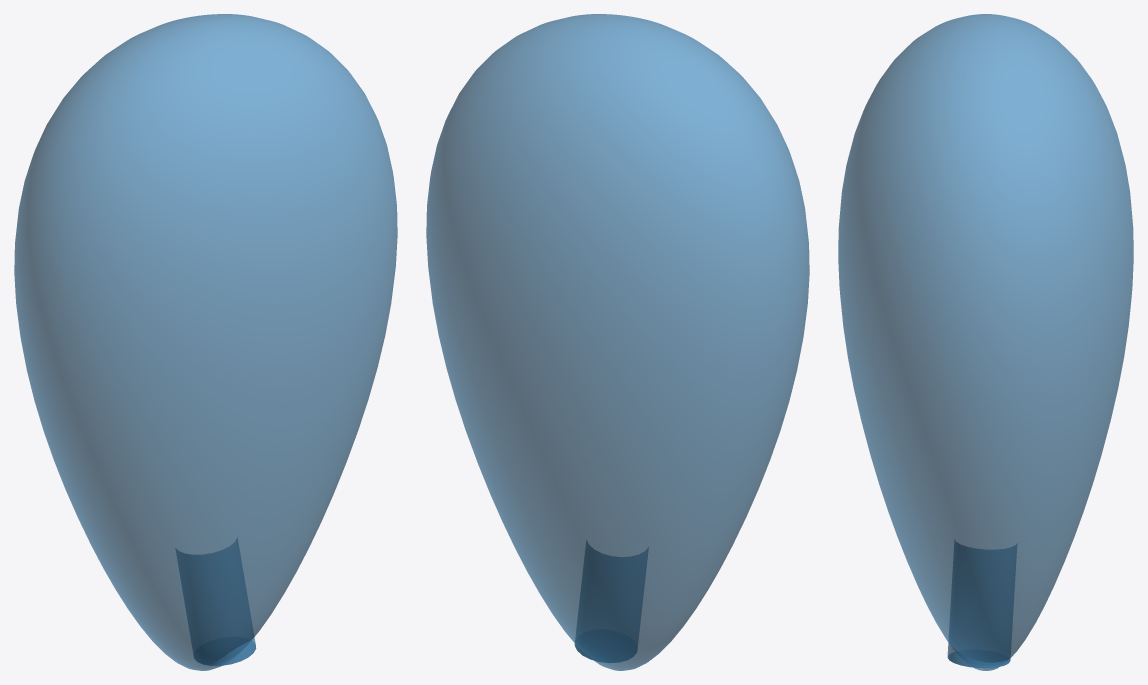
3 renders of one model, left to right at view 1: azimuth 30°, elevation 25°; view 2: azimuth 150°, elevation 25°; view 3: azimuth 270°, elevation 25°, orthographic.
Visible parts, largest first — view 1: viscous-bulb, viscous-neck; view 2: viscous-bulb, viscous-neck; view 3: viscous-bulb, viscous-neck.
Boxes of the visible parts, x1,y1,x2,y2 form: viscous-bulb: (14, 14, 397, 670); viscous-neck: (176, 538, 256, 665); viscous-bulb: (426, 14, 809, 670); viscous-neck: (574, 541, 648, 662); viscous-bulb: (838, 14, 1133, 670); viscous-neck: (947, 541, 1016, 668).
Bounding box in the file's own units: 1.15 × 2 × 0.8435.
